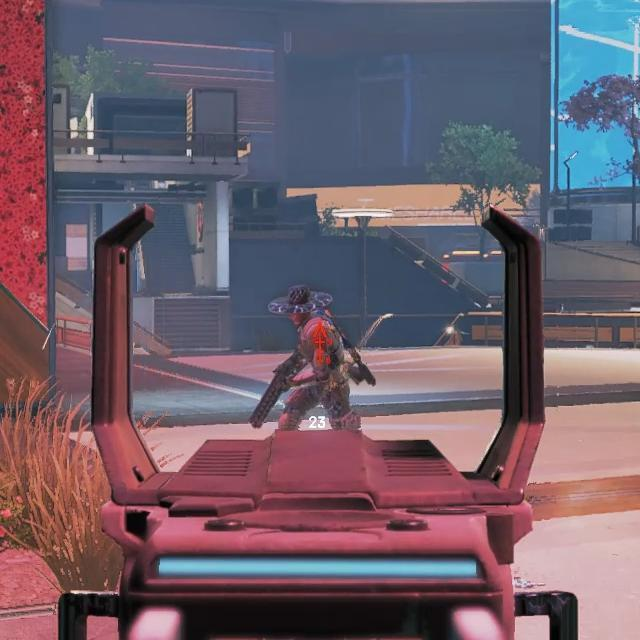avatar: (267, 283, 377, 433)
